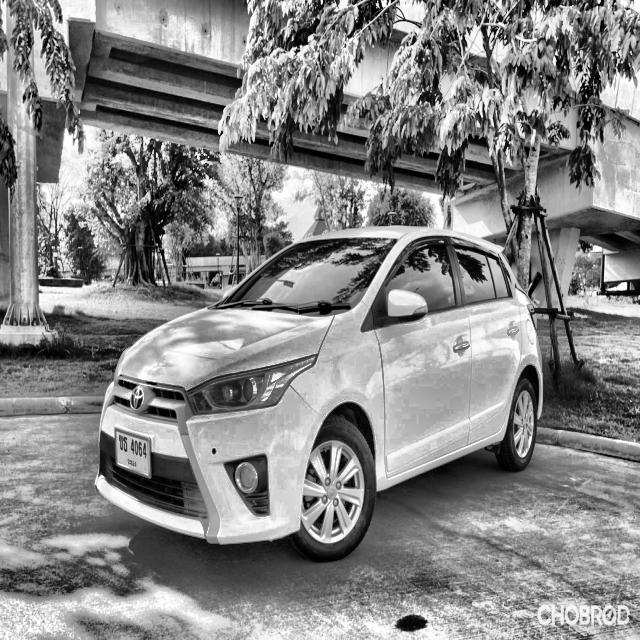license-plate: (114, 424, 154, 481)
